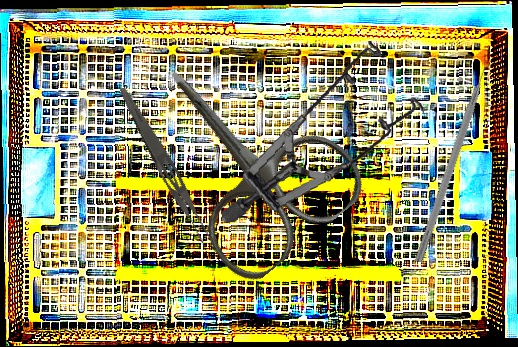Chopper: (413, 55, 505, 268)
Dressing Forceps: (111, 84, 219, 251)
Iris Scissors: (109, 18, 376, 293)
Speculum: (202, 35, 435, 224)
